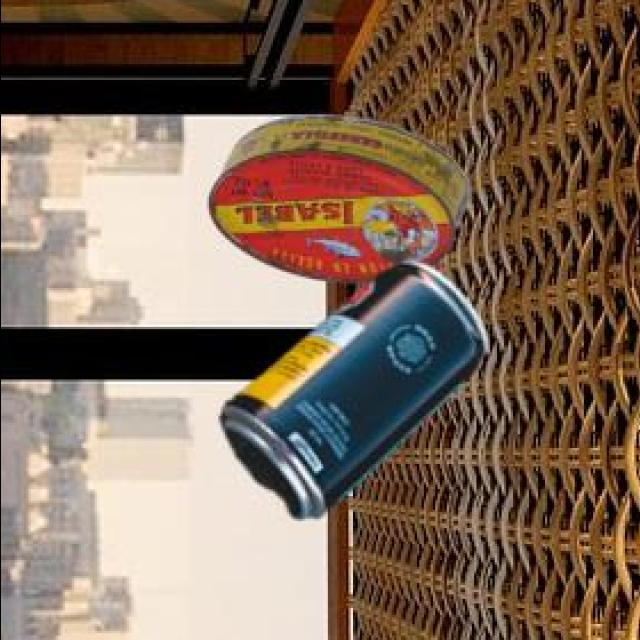logam: (223, 259, 490, 515), (211, 111, 472, 280)
